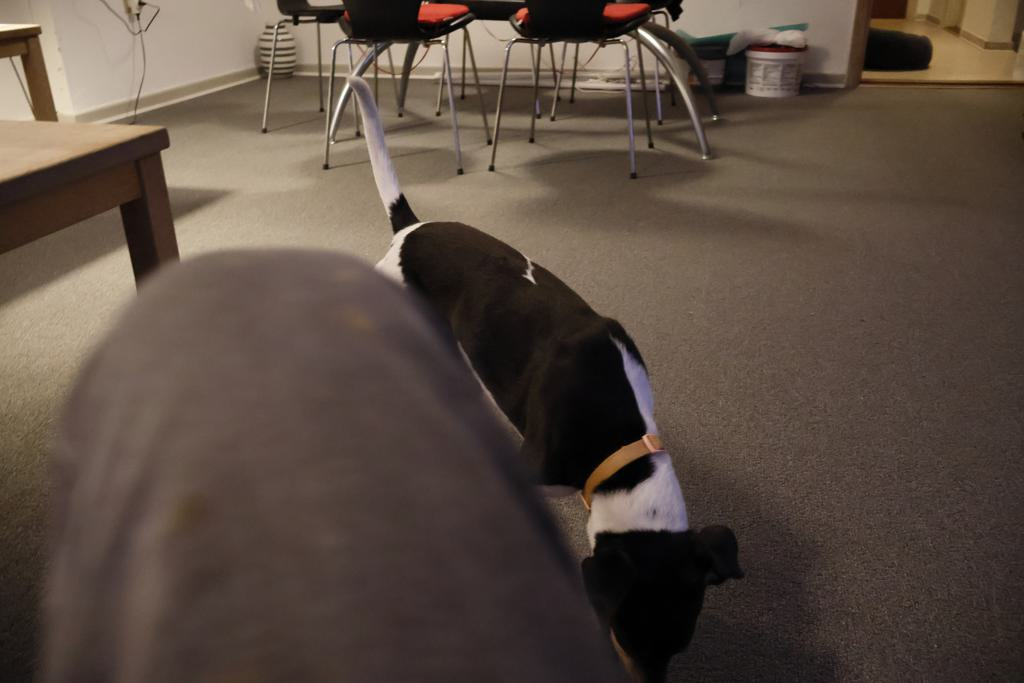Dog: (332, 60, 757, 683)
Humanoid: (13, 227, 639, 683)
